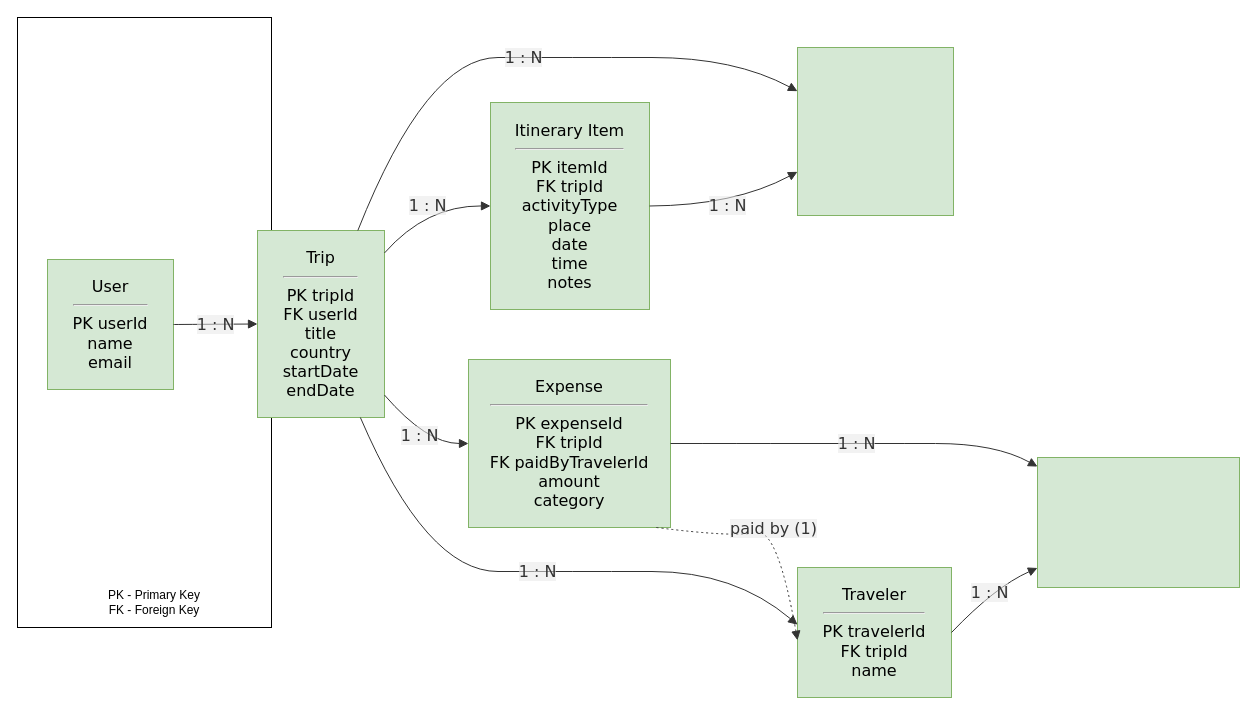
This 1257x715 diagram has some shape labels left out. Each missing label, with the box of its shape:
Expense Participant FK expenseId FK travelerId shareAmount: (1036, 456, 1240, 588)
Journal Entry PK journalId FK tripId* FK itemId* content photos: (796, 46, 954, 216)
